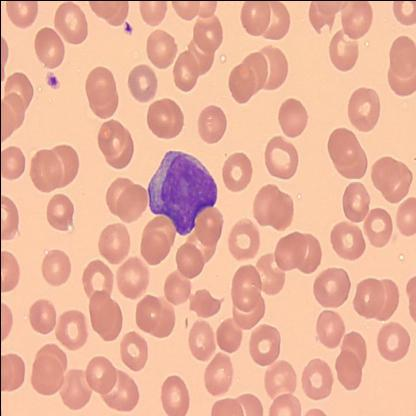Promyelocyte: (147, 147, 217, 234)
